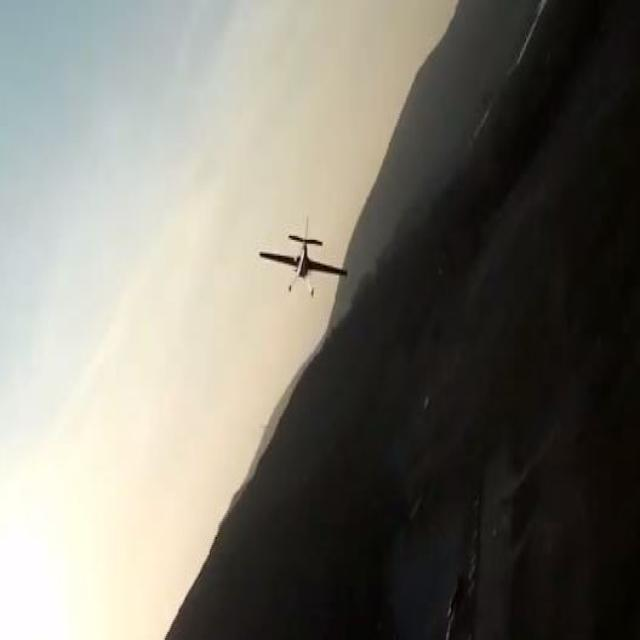iha: (289, 245, 317, 267)
